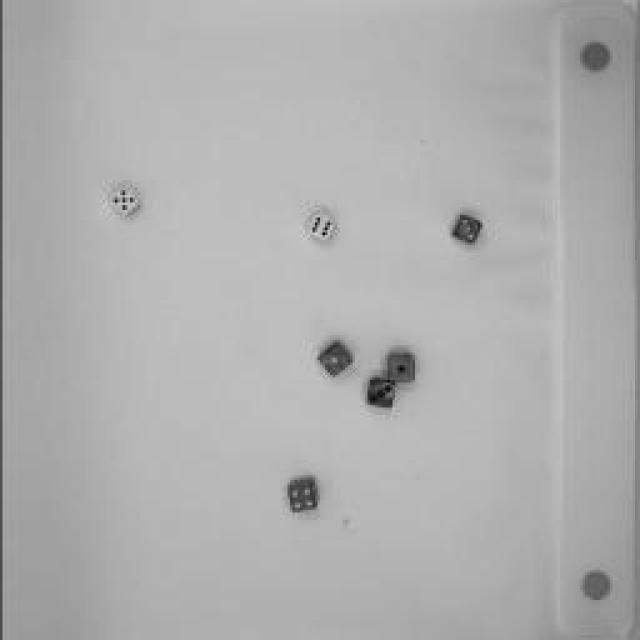dice_1: (315, 337, 355, 385), (384, 350, 416, 385)
dice_3: (364, 375, 398, 410), (450, 213, 482, 245)
dice_4: (281, 477, 319, 515)
dice_5: (106, 186, 142, 219)
dice_6: (302, 214, 338, 246)
